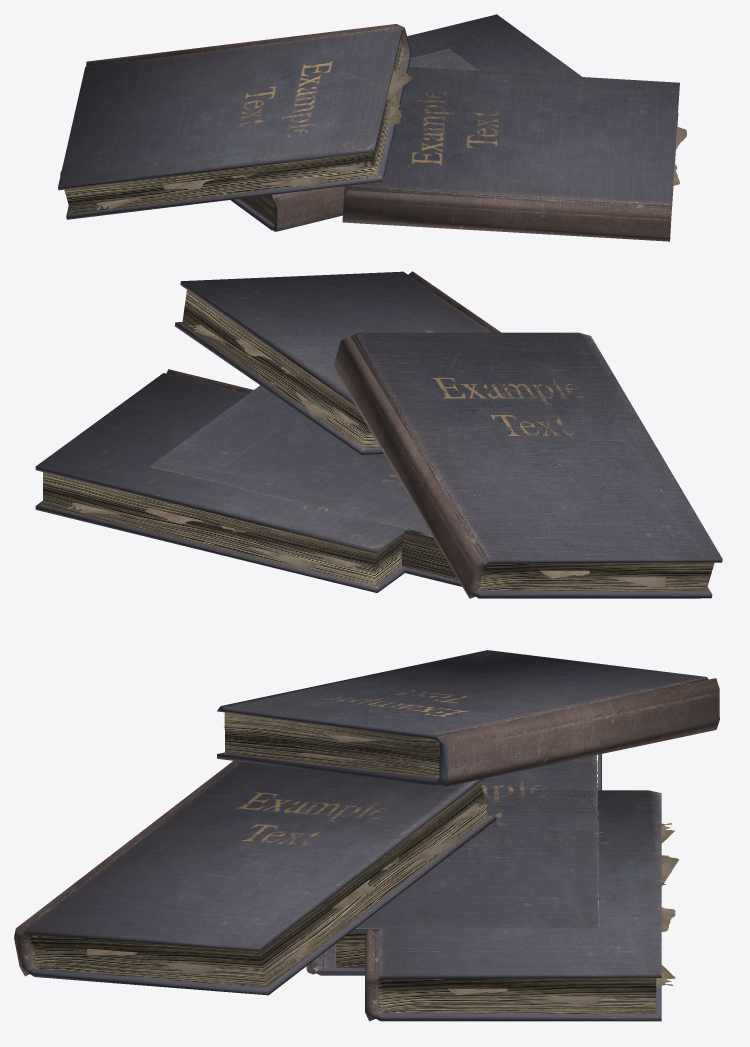
The model's file is Books.obj.
3 views of the same model, one above another, from view 1: azimuth 30°, elevation 25°; view 2: azimuth 150°, elevation 25°; view 3: azimuth 270°, elevation 25° (orthographic). The views are drawn at different scales.
Parts seen in each view (by area): view 1: Cube.003, Cube.002, Cube.001, Cube; view 2: Cube.003, Cube.001, Cube.002, Cube; view 3: Cube.002, Cube.003, Cube.001, Cube.
Boxes of the visible parts, left/top/right/bottom form: Cube.003: left=58, top=24, right=412, bottom=219; Cube.002: left=342, top=67, right=686, bottom=241; Cube.001: left=407, top=14, right=581, bottom=76; Cube: left=230, top=49, right=479, bottom=231; Cube.003: left=334, top=330, right=722, bottom=598; Cube.001: left=35, top=369, right=432, bottom=592; Cube.002: left=175, top=271, right=500, bottom=454; Cube: left=149, top=385, right=462, bottom=586; Cube.002: left=14, top=761, right=496, bottom=995; Cube.003: left=217, top=650, right=719, bottom=786; Cube.001: left=365, top=790, right=678, bottom=1021; Cube: left=306, top=754, right=601, bottom=975.
Size of the model in its own units: 9.77 by 2.18 by 8.29.
1 material, 1 textured.
